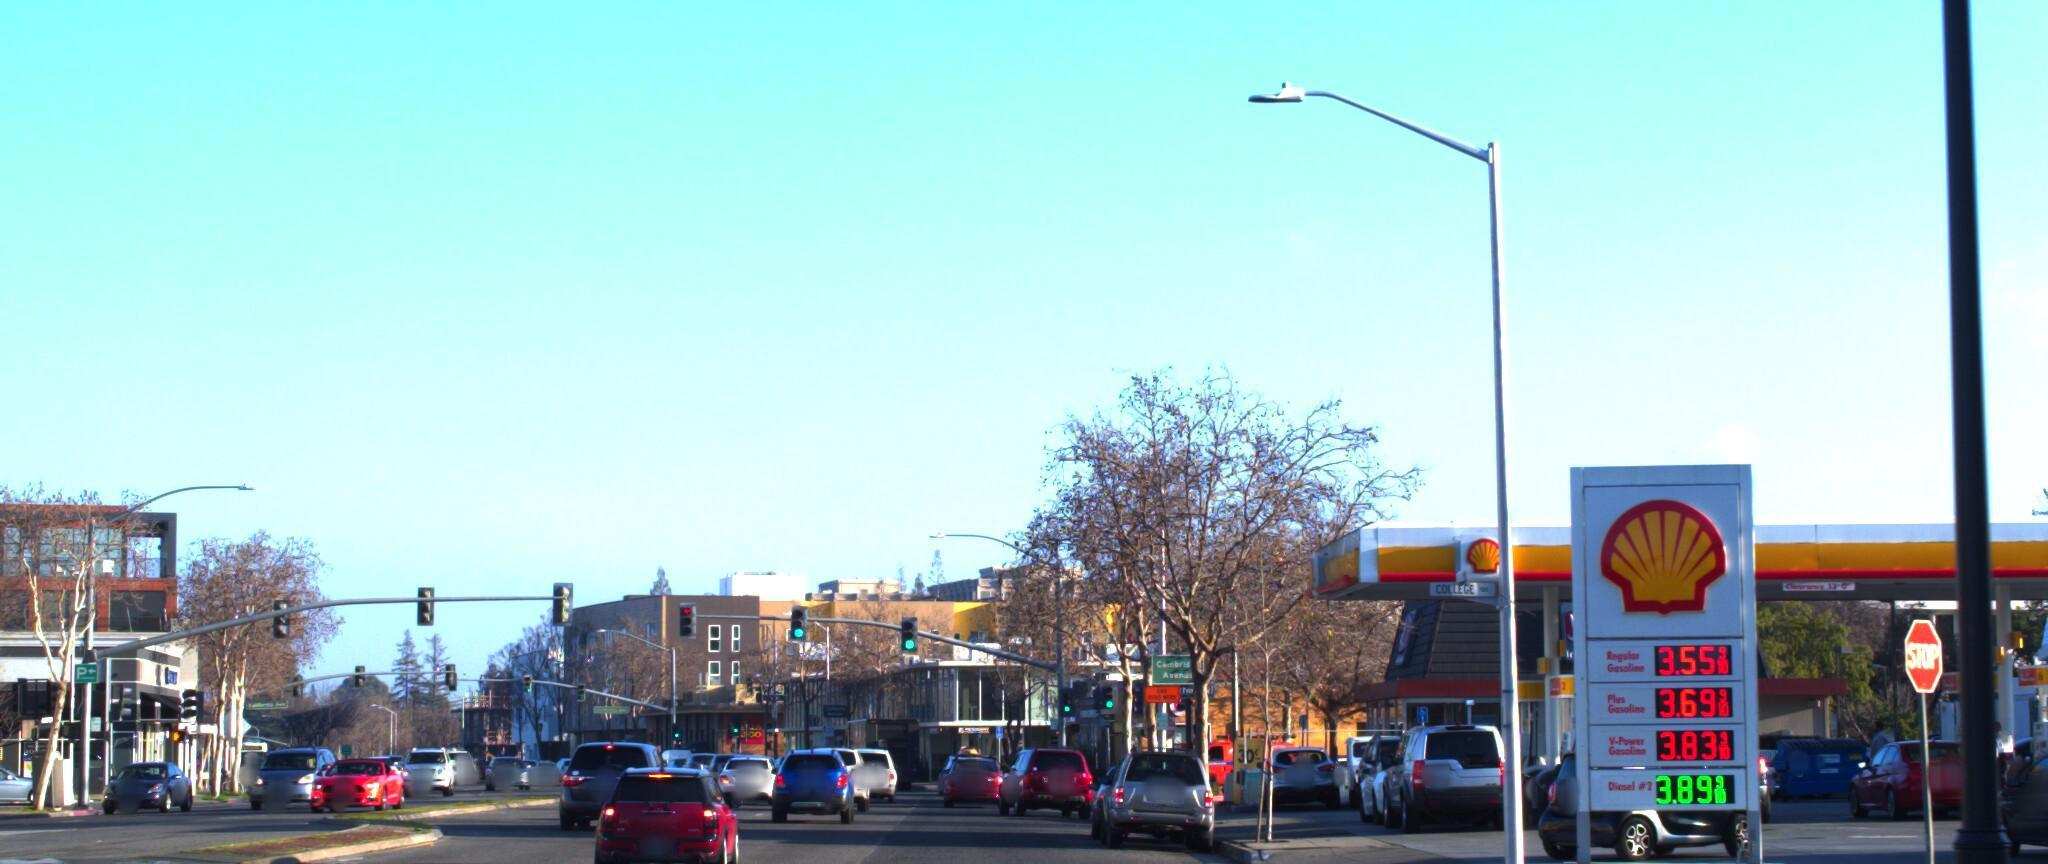car: (1516, 722, 1768, 844), (585, 744, 755, 864), (1360, 703, 1515, 817), (1819, 724, 2008, 807), (1087, 724, 1220, 837), (543, 724, 680, 827), (1957, 724, 2048, 854), (1237, 723, 1337, 790), (313, 732, 421, 794), (772, 728, 858, 804), (799, 739, 880, 813), (998, 731, 1088, 797), (0, 730, 38, 864)
